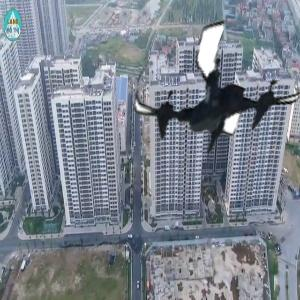drone: (137, 14, 300, 177)
